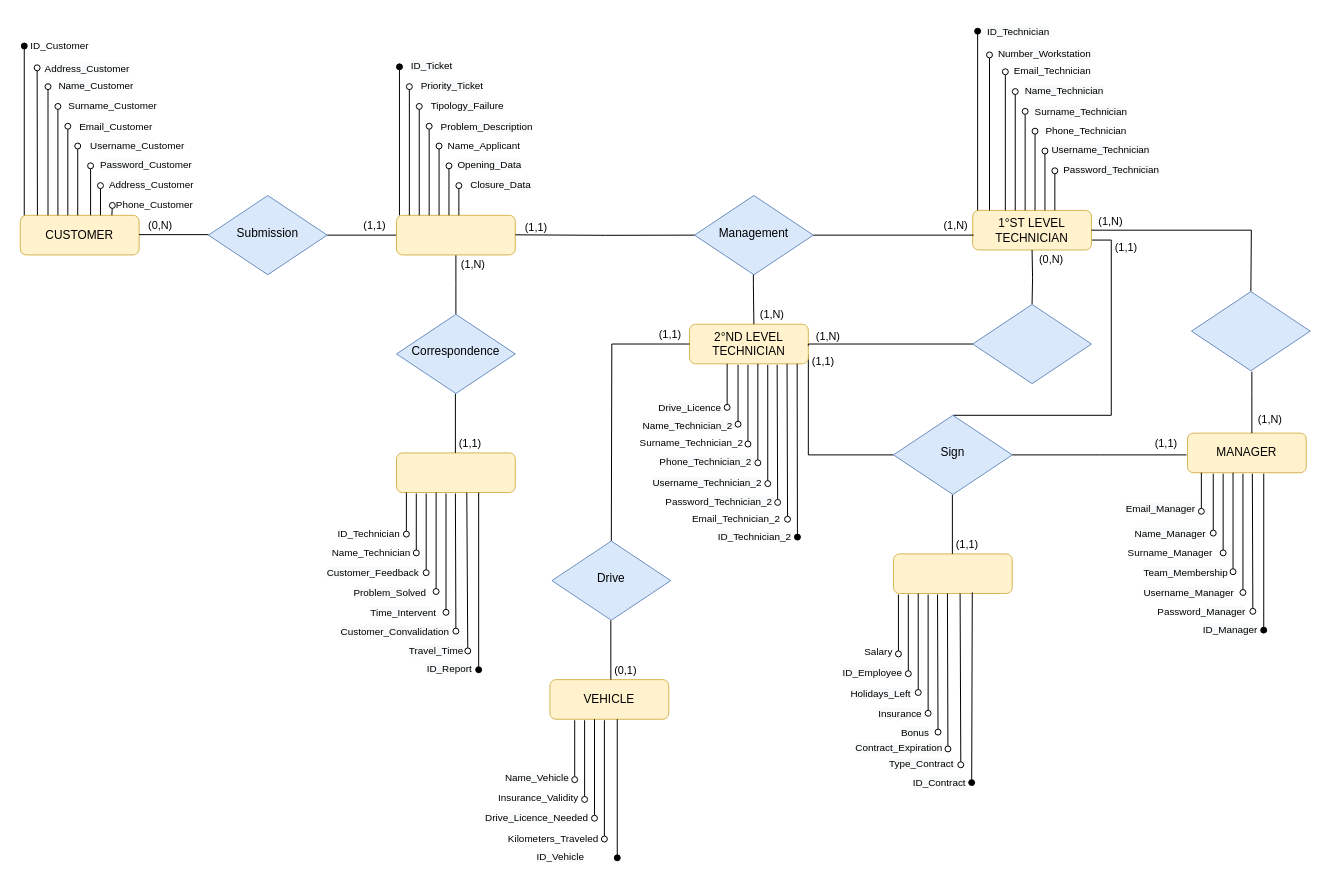
Image size: 1328x889. Some labels were removed from this diagram. Each missing label, with the centre of its shape:
CONTRACT: the point at 952,573
Delegation: the point at 1031,343
REPORT: the point at 455,472
Supervision: the point at 1250,331
TICKET: the point at 455,234
